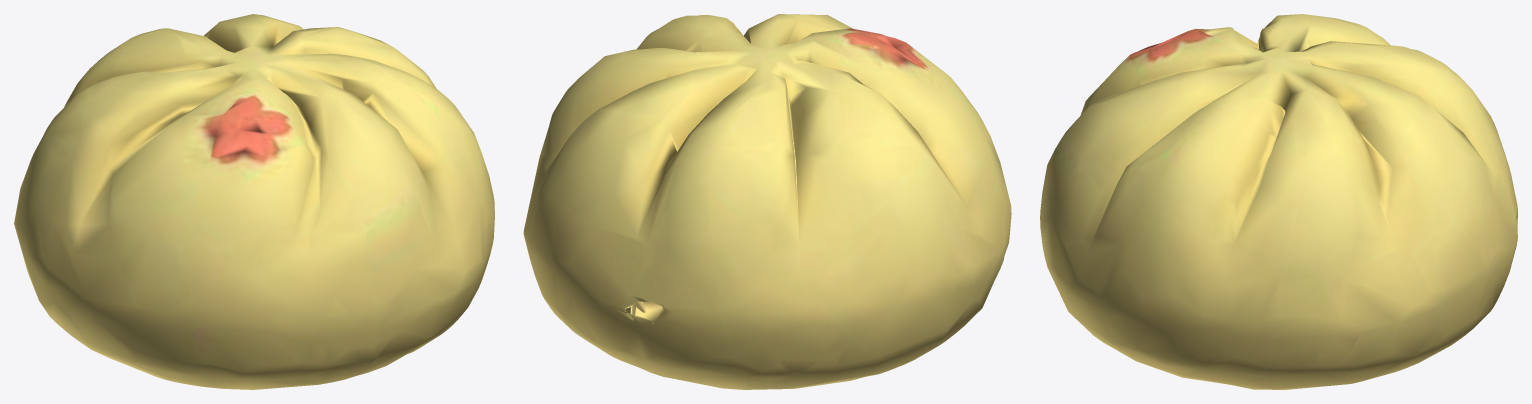
File: anman.glb
3 views of the same model, side by side, from view 1: azimuth 30°, elevation 25°; view 2: azimuth 150°, elevation 25°; view 3: azimuth 270°, elevation 25° (orthographic).
Visible parts, largest first — view 1: tripo_node_1816c145-7cbf-4e49-9b24-2a181e8cd79f; view 2: tripo_node_1816c145-7cbf-4e49-9b24-2a181e8cd79f; view 3: tripo_node_1816c145-7cbf-4e49-9b24-2a181e8cd79f.
Part boxes in pixels (x1,y1,x2,y2): tripo_node_1816c145-7cbf-4e49-9b24-2a181e8cd79f: (14, 14, 494, 389); tripo_node_1816c145-7cbf-4e49-9b24-2a181e8cd79f: (523, 14, 1011, 389); tripo_node_1816c145-7cbf-4e49-9b24-2a181e8cd79f: (1040, 14, 1517, 389).
Size of the model in its own units: 0.9789 by 0.6097 by 0.9745.
1 material, 1 textured.
